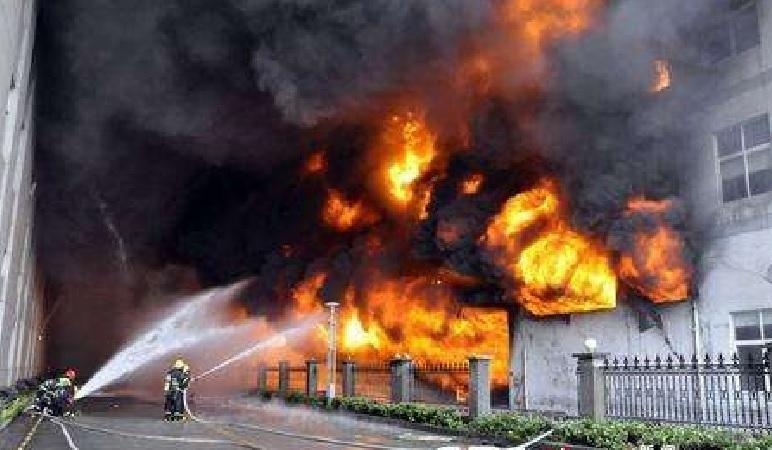fire: (292, 101, 677, 376), (649, 55, 672, 90)
